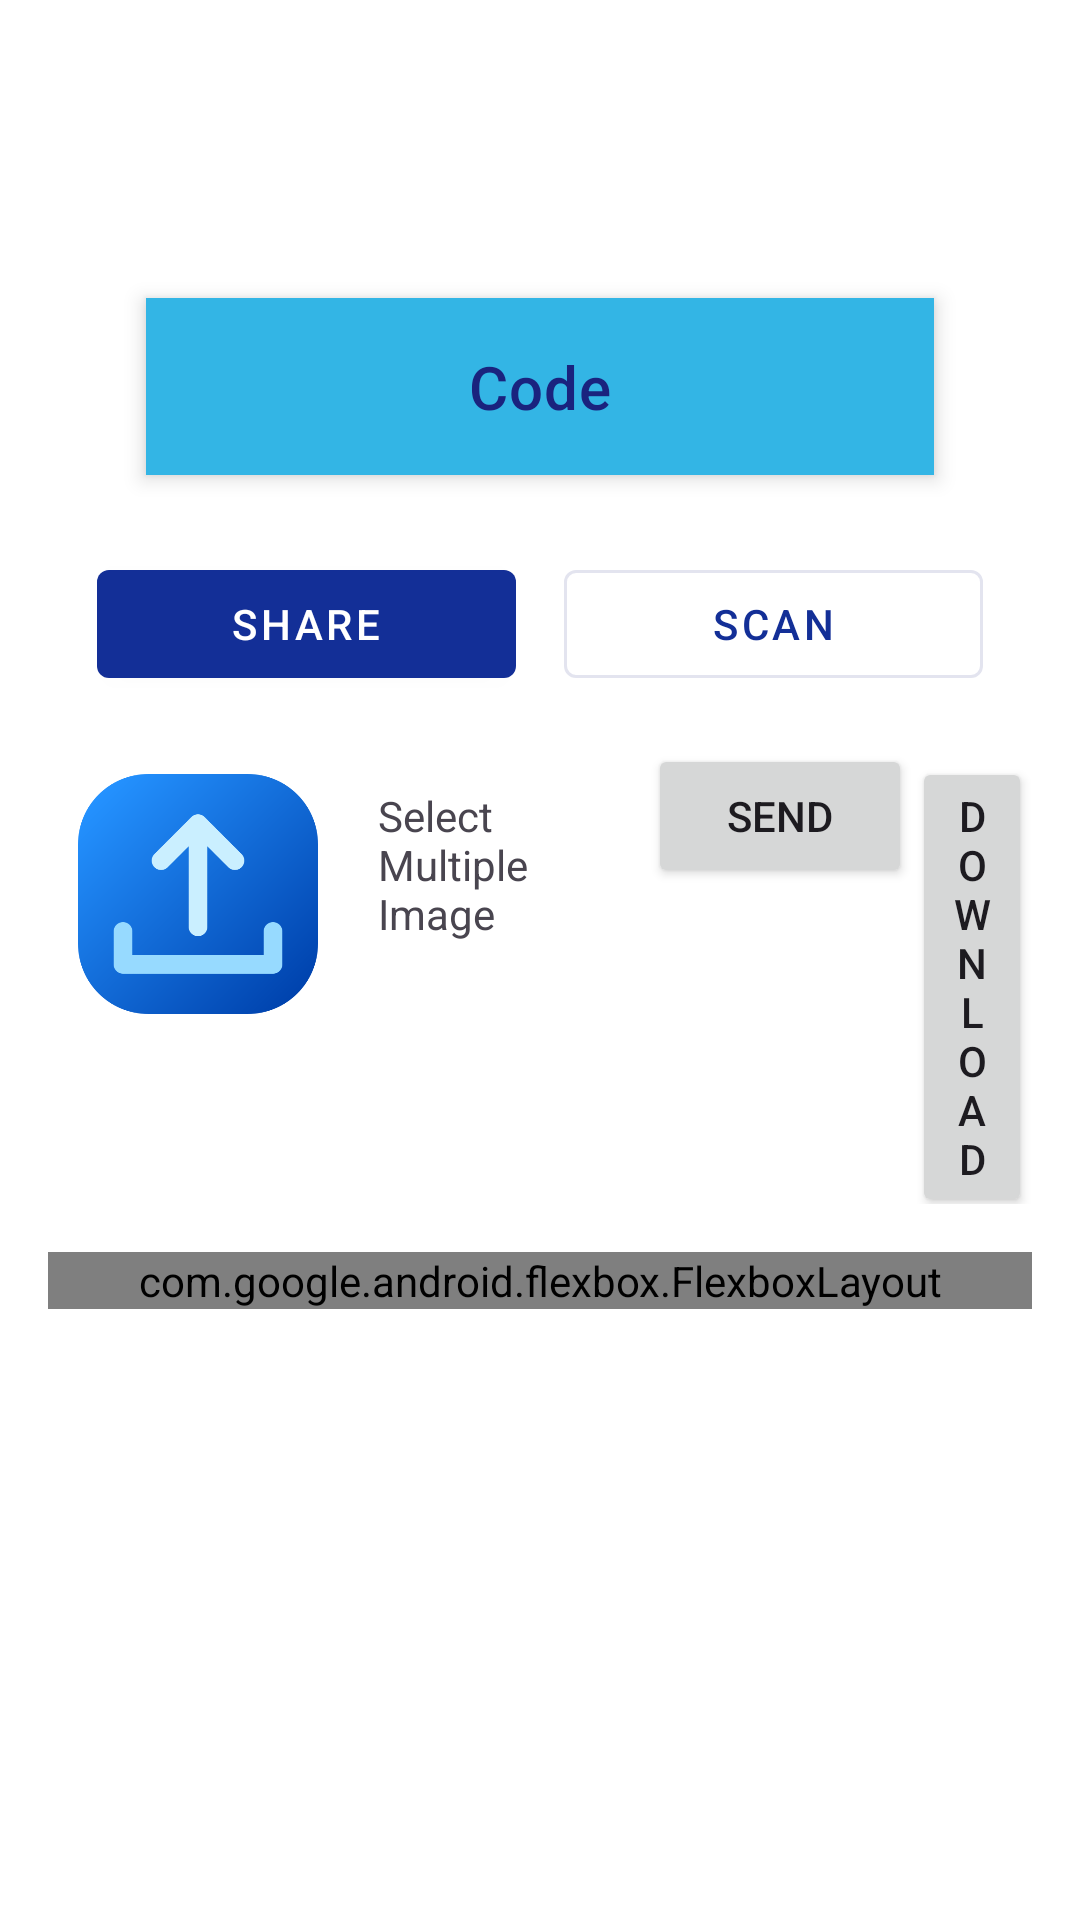

Named icons in this screenshot (1080×1920) and their bounding boxes, box=[x1, y1, x2, y2]:
upload: box=[78, 774, 318, 1014]
